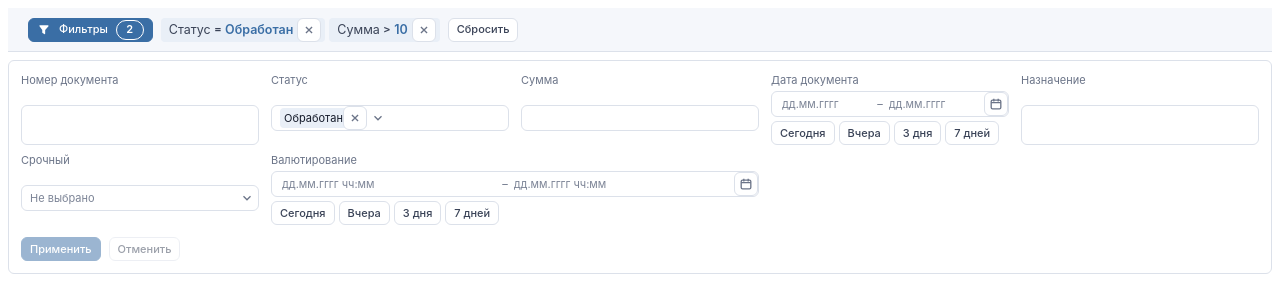
Test: FilterPanel › строка состояния: кнопка с aria-expanded и счётчиком, чипы, «Сбросить»; без условий — «условия не заданы»
The image size is (1280, 291).
Expected: the button "Фильтры 2" is shown, [28,18,153,42]
Expected: the list items read "Статус = Обработан", "Сумма > 10", in this order, [161,18,325,42]; [329,18,440,42]
Click the button named "Убрать условие: Статус = Обработан" at (309, 30), box [297,18,321,42]
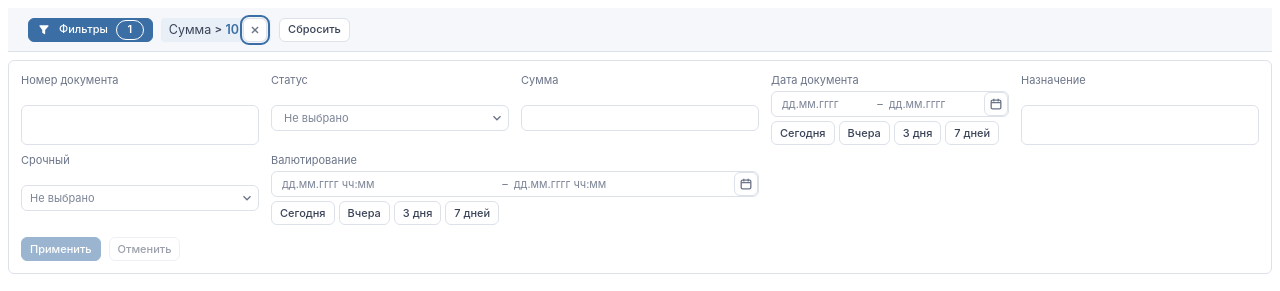
Now the number of list items is 1, box [161,18,271,42]
Click the button "Сбросить" at (314, 30), box [279,18,350,42]
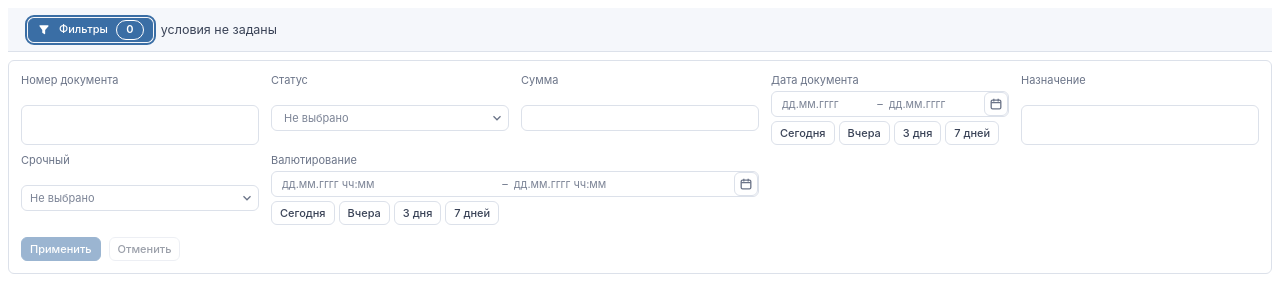
Now the text "условия не заданы" is shown, box [161,21,277,38]
Click the button "Фильтры 0" at (90, 30), box [28,18,153,42]
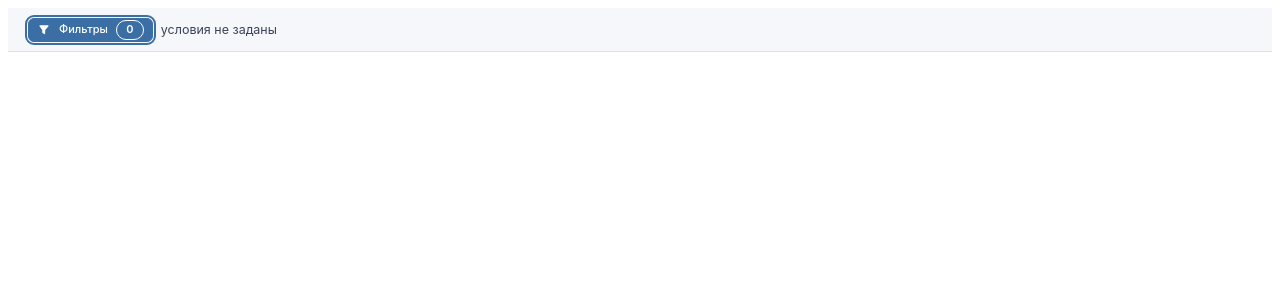
Now the label "Назначение" is gone
